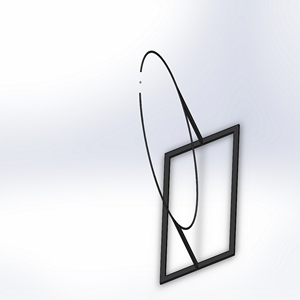circle: (134, 48, 241, 285)
